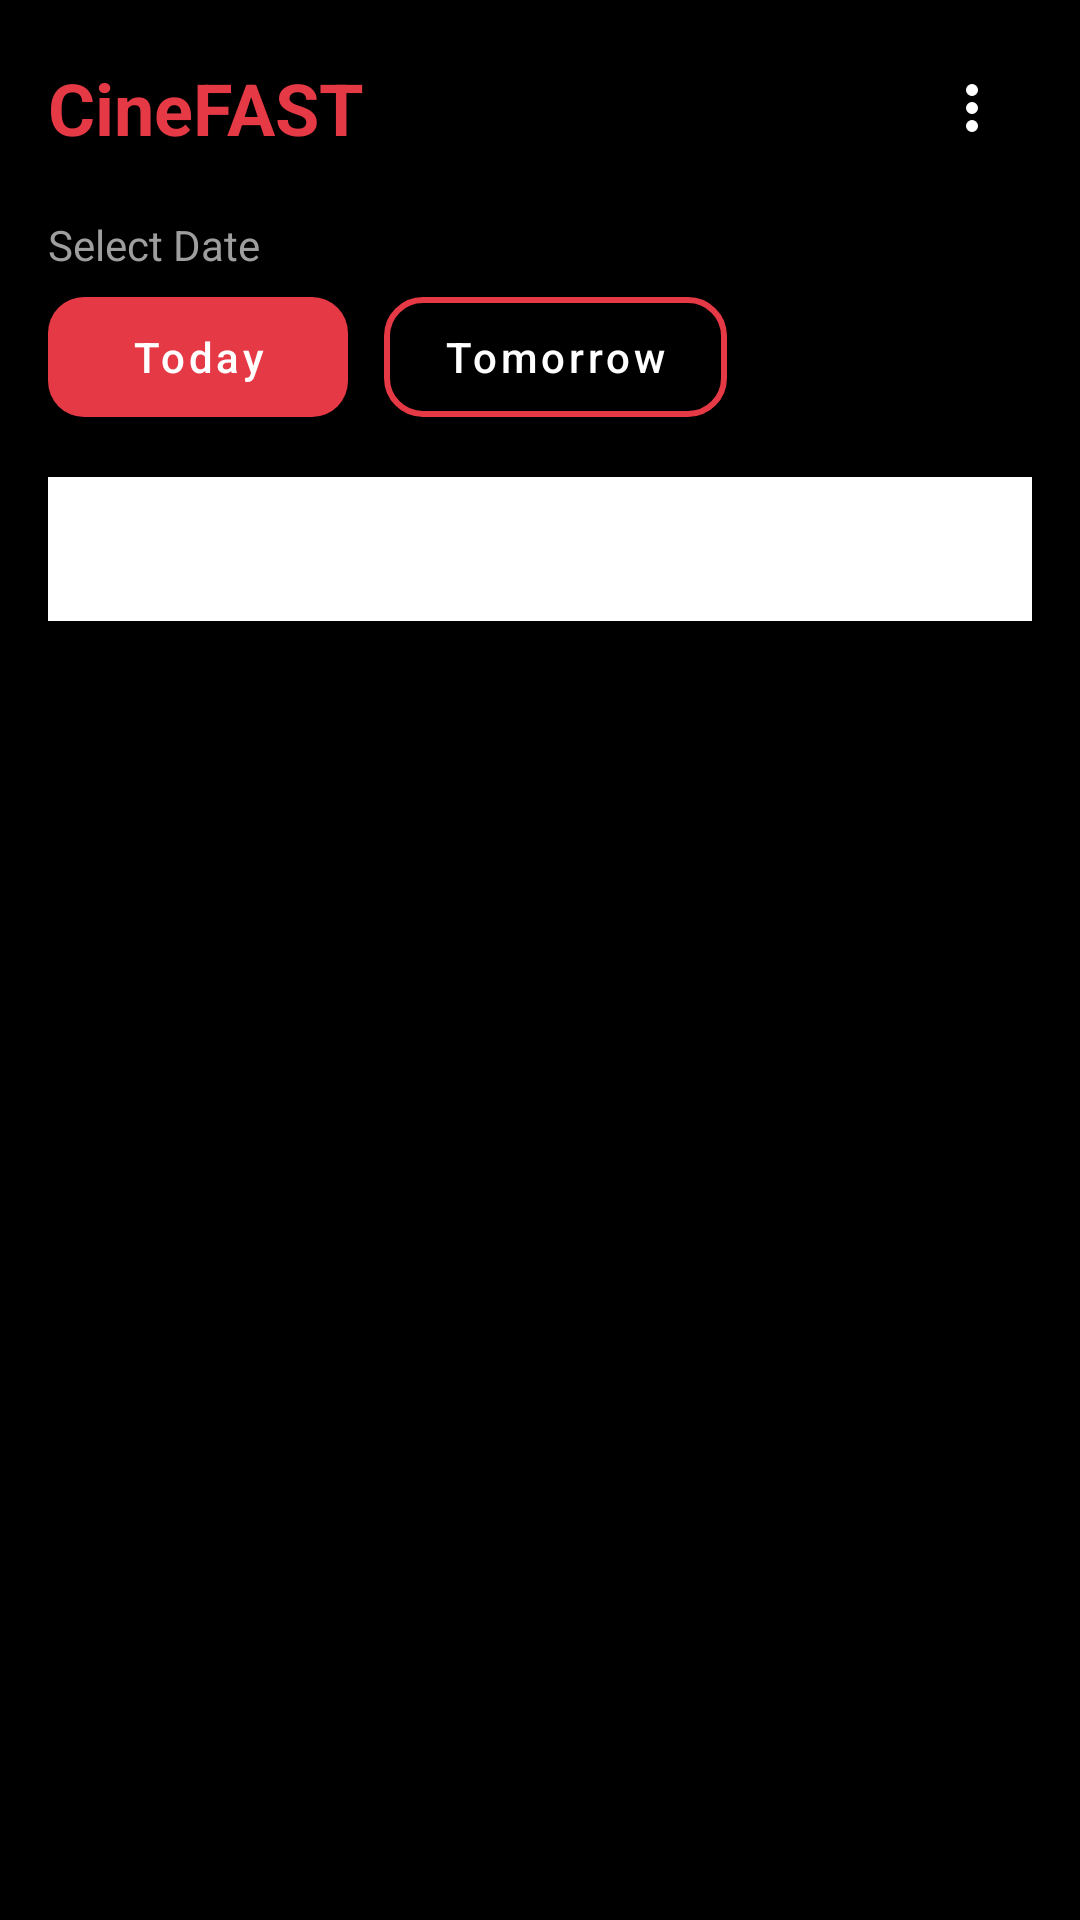

Where icons sit on this 1080x1920 app screen, as (x1, y1, x2, y2):
Menu: (966, 84, 978, 132)
